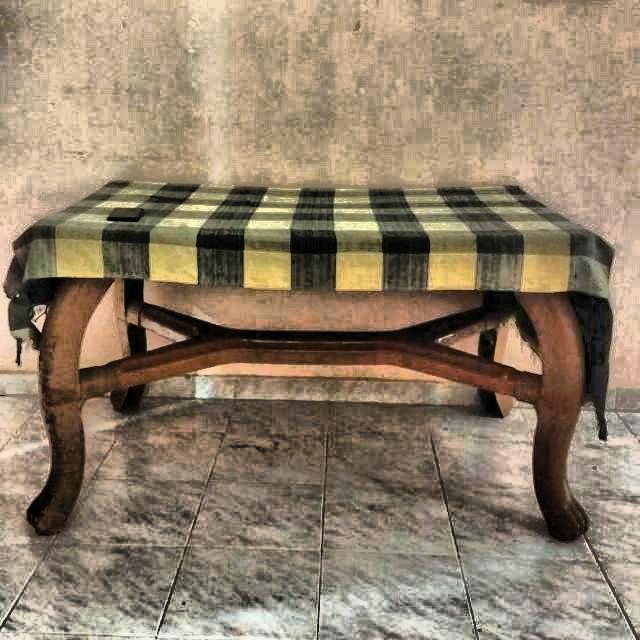mesa: (18, 158, 618, 580)
